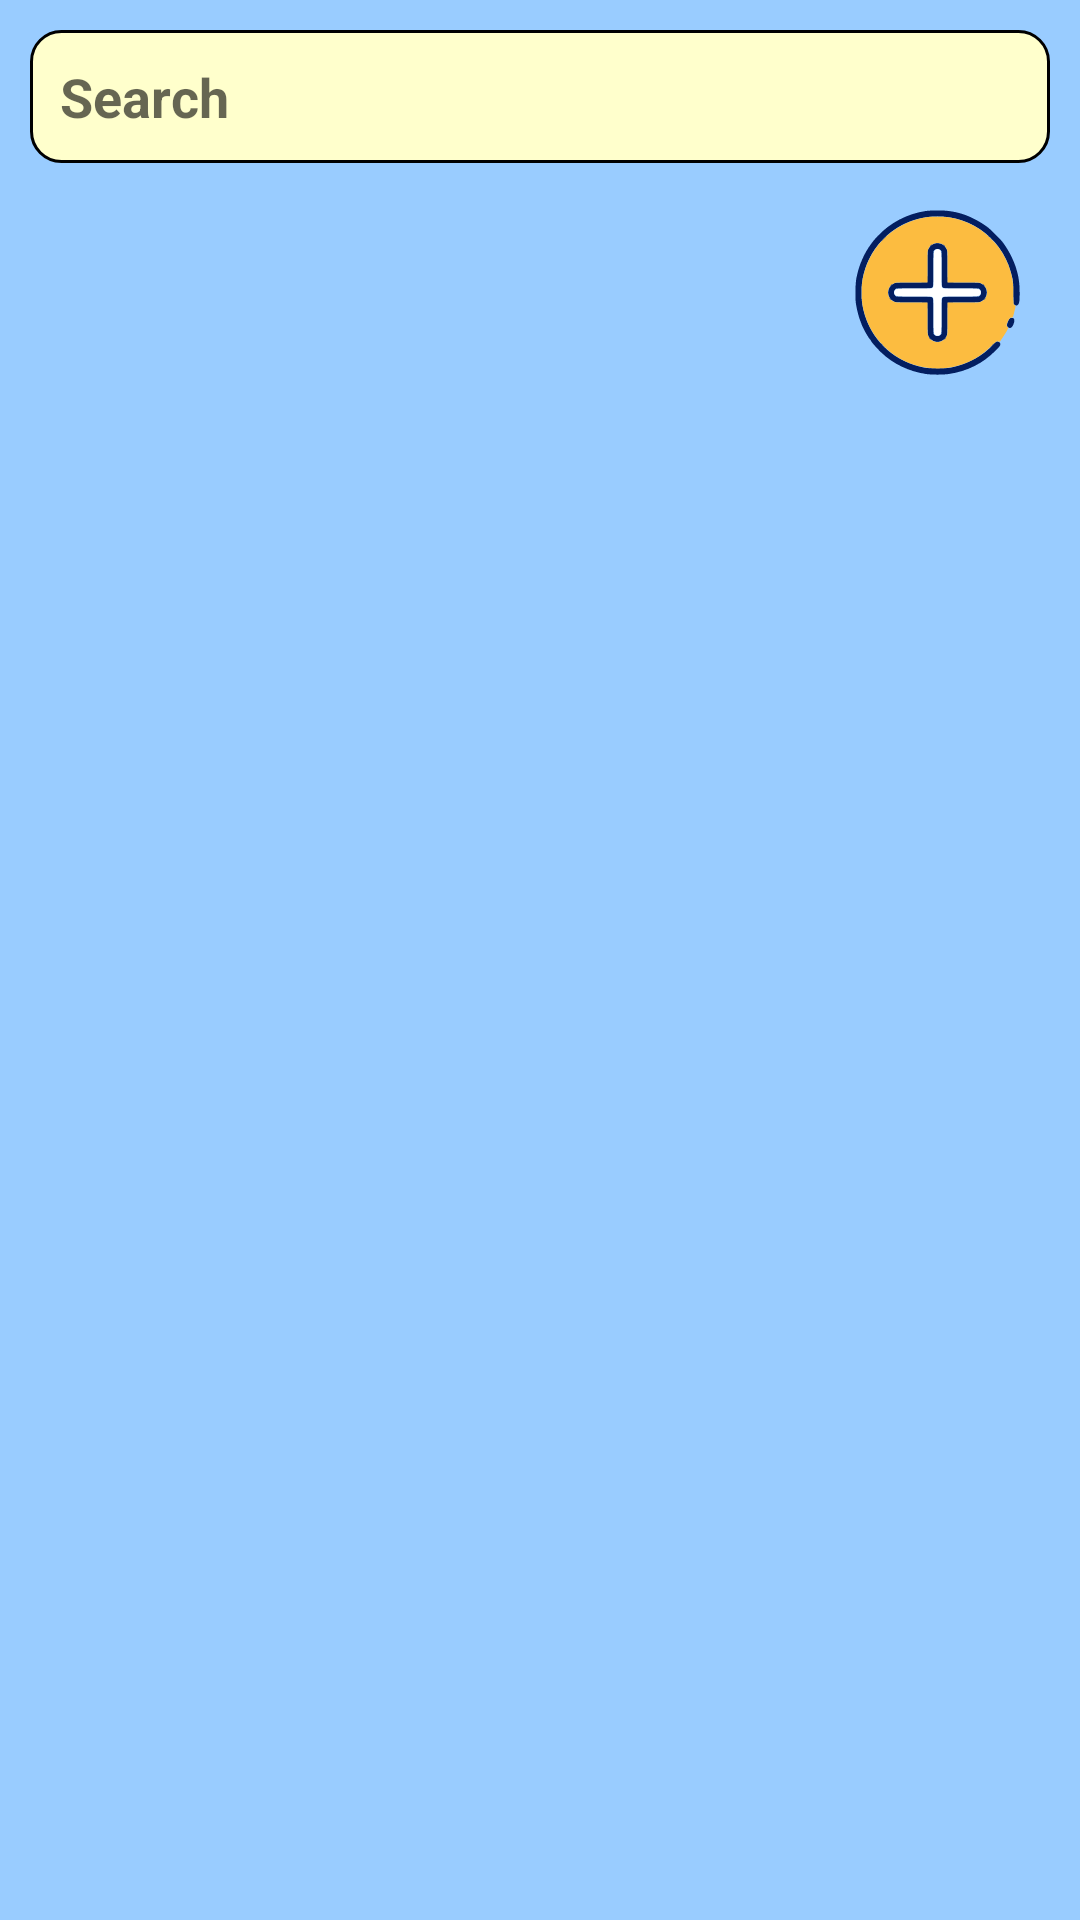

Named icons in this screenshot (1080w x 1920h) and their bounding boxes, bbox(x1, y1, x2, y2):
add: bbox(855, 210, 1020, 375)
